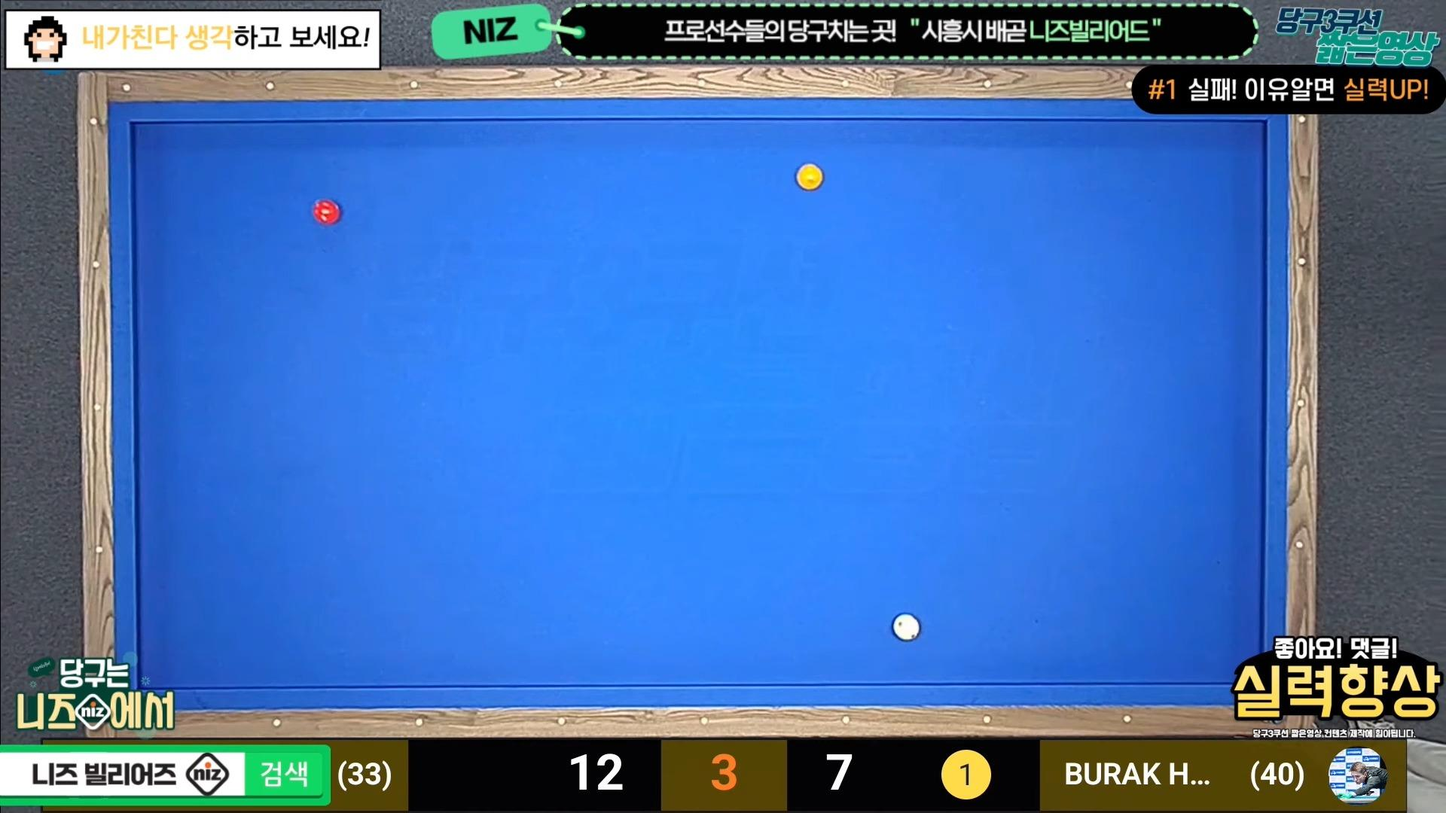-billiard-ball: (890, 612, 920, 642), (795, 162, 823, 191)
Red: (311, 201, 344, 227)
White: (889, 614, 922, 642)
Yellow: (795, 165, 826, 193)
billiard-ball-Yellow: (795, 165, 826, 193)
billiard-ball-white: (889, 614, 922, 642)
